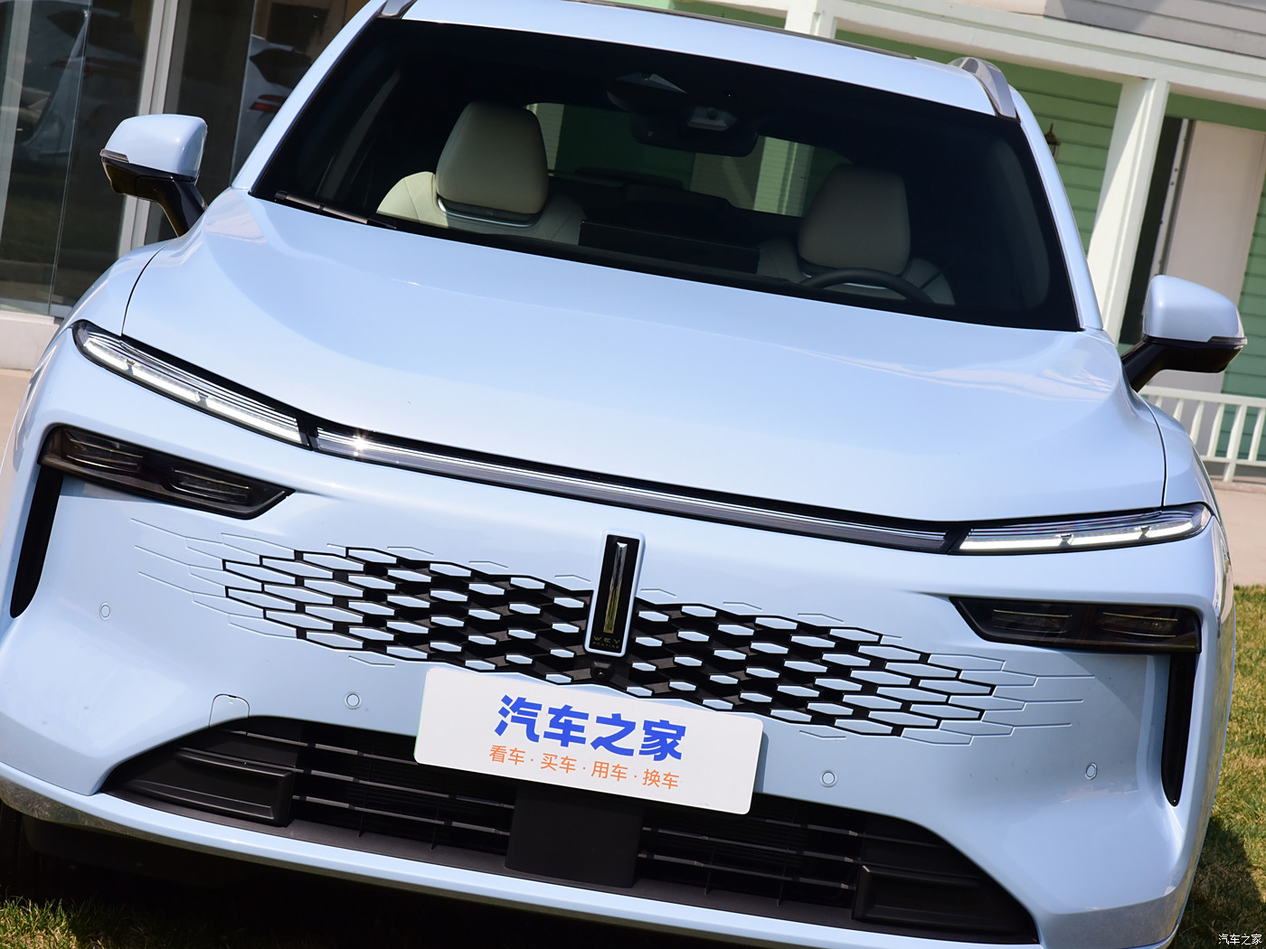WEY: (590, 535, 639, 653)
